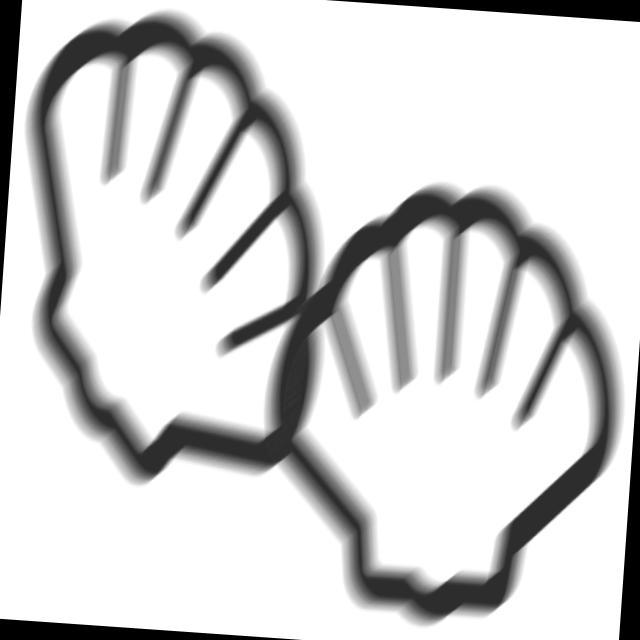shell: (245, 157, 640, 640), (1, 1, 352, 511)
